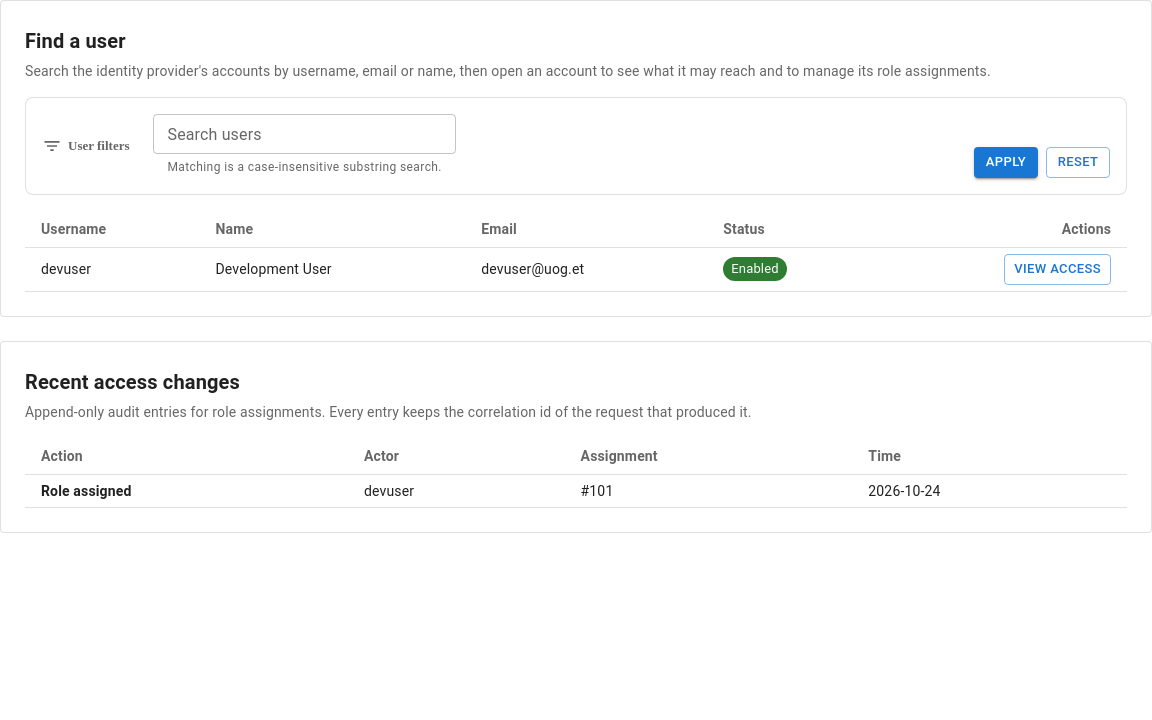
Test: AccessScreen — states › renders the user search, effective summary, assignments and audit trail
Expected: the heading "Find a user" is shown, [25, 29, 126, 53]
# Select the user to load the detail panels.
Click the button with aria-label "View access for devuser": coordinates (1058, 269) [1004, 254, 1111, 285]
(page scrolled)
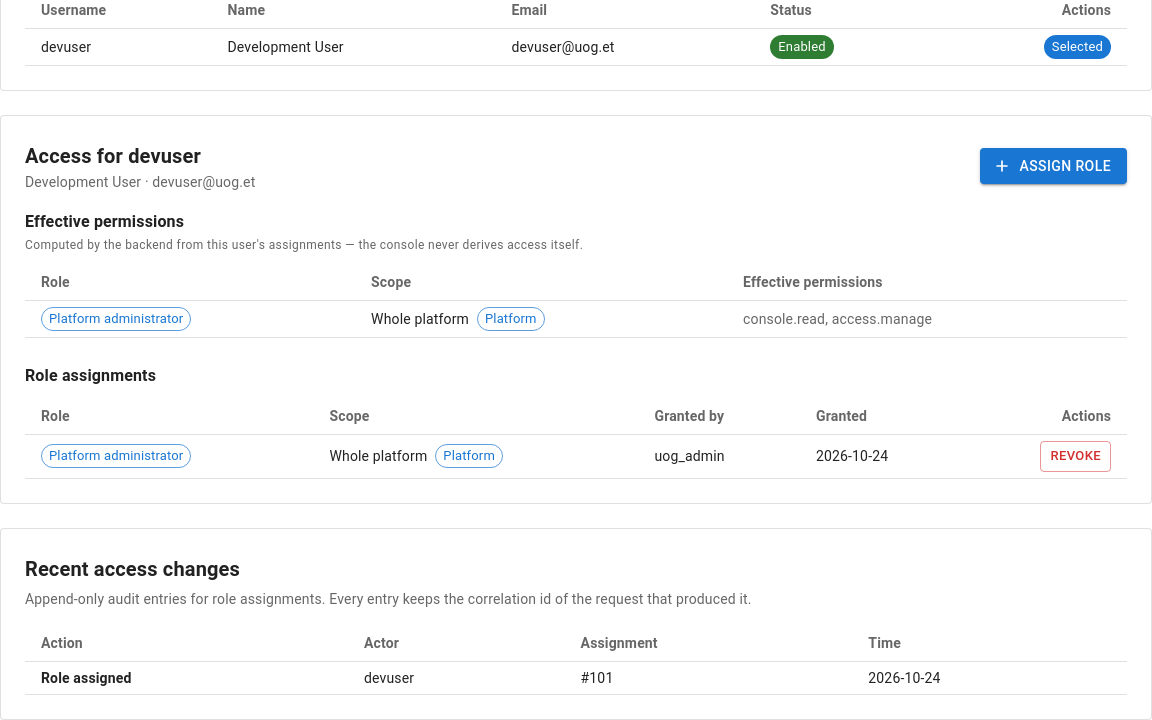
Expected: the heading "Recent access changes" is shown, [25, 557, 240, 581]
Now the heading "Effective permissions" is shown, box [25, 212, 184, 231]
Now the heading "Role assignments" is shown, box [25, 366, 156, 385]
